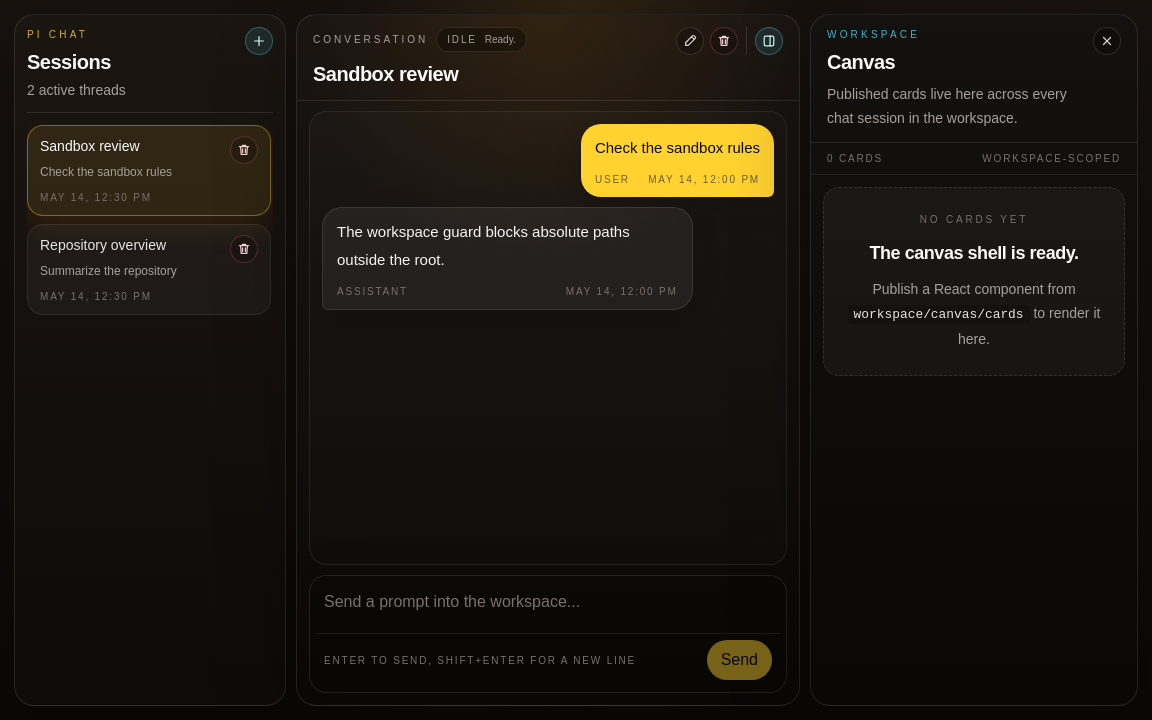
Scenario: App › editing a session title updates the header and sidebar
Expected: the heading "Sandbox review" is shown, [313,63,458,85]
Click the button named "Rename".
click(690, 41)  # box [676,27,704,55]
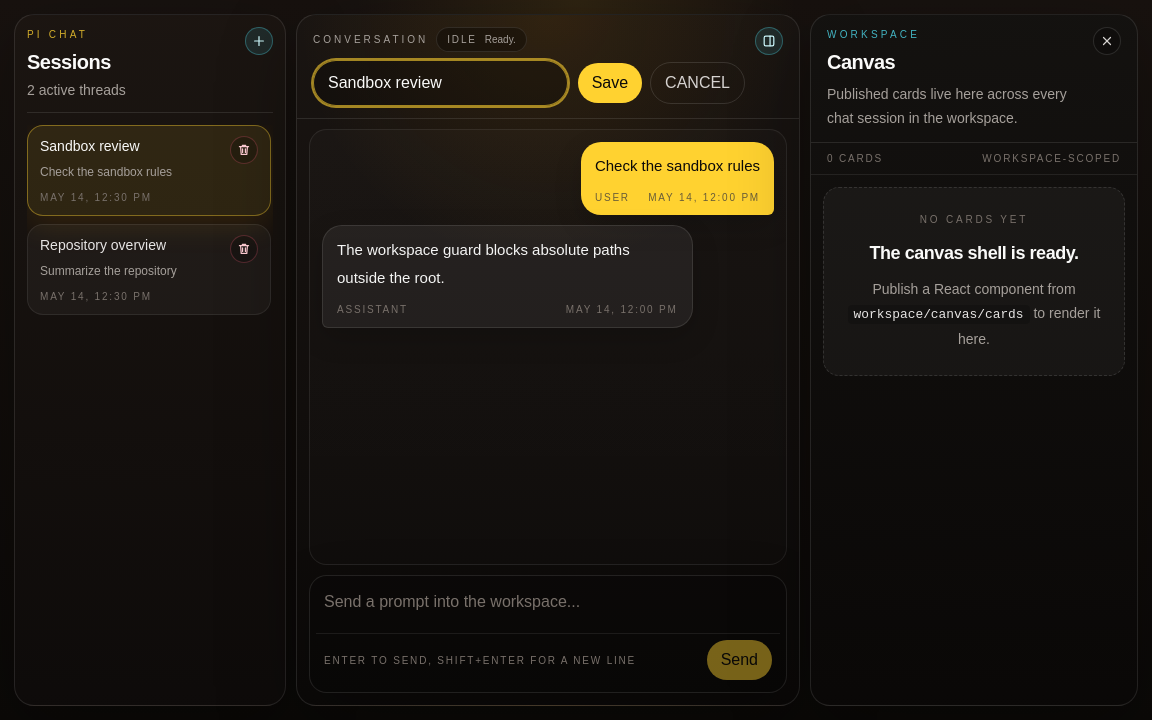
Replace the text in the field with placeholder "Session title" with "Runtime audit" at (440, 83), box [313,60,568,106]
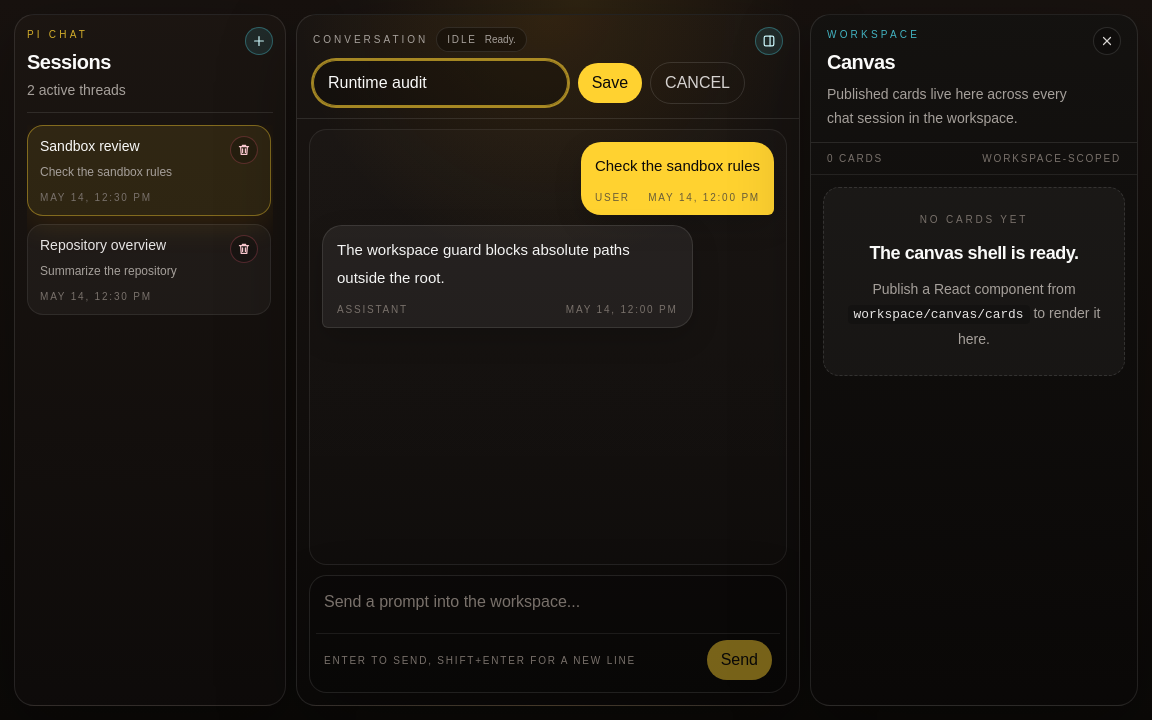
Click the button "Save".
click(610, 83)  # box [578,63,642,103]
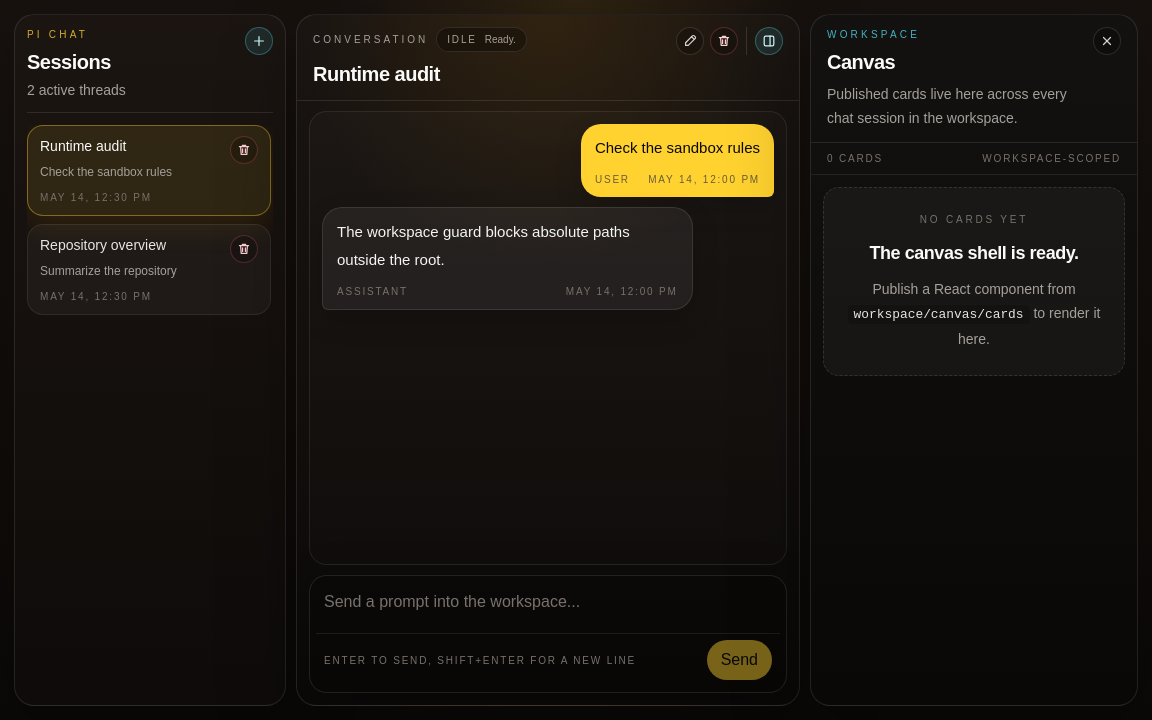
Expected: the heading "Runtime audit" is shown, [313,63,440,85]
